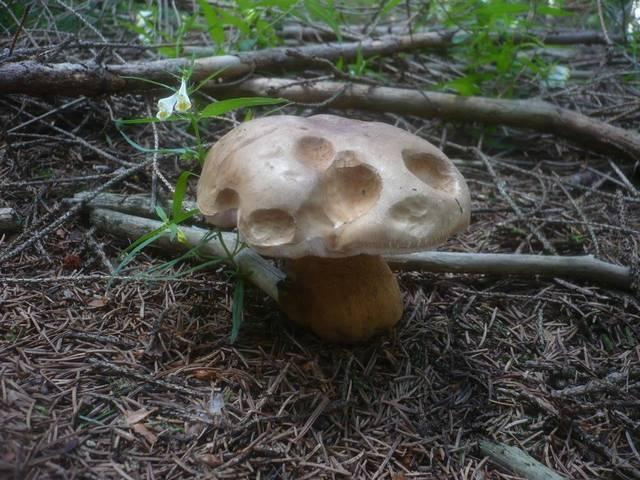poisonous_mushroom: (194, 112, 472, 345)
